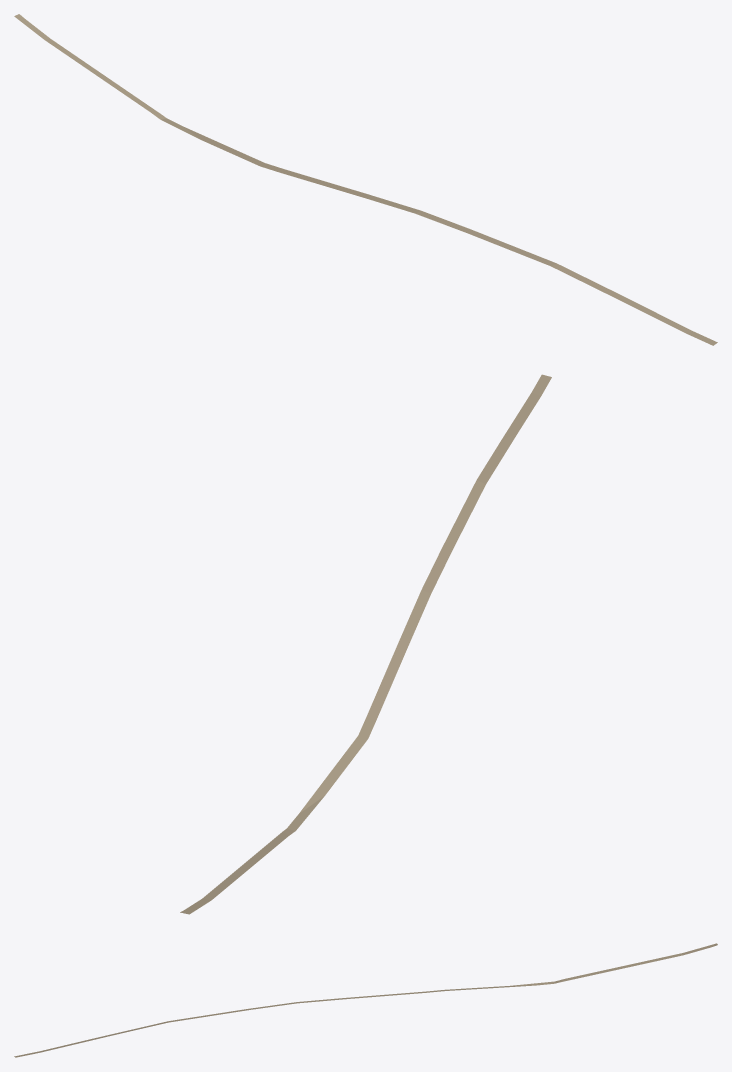
The model's file is farm_13_24_track.glb.
The picture shows the model from 3 angles, top to bottom: view 1: azimuth 30°, elevation 25°; view 2: azimuth 150°, elevation 25°; view 3: azimuth 270°, elevation 25°; orthographic projection. The views are drawn at different scales.
Parts seen in each view (by area): view 1: geometry_0; view 2: geometry_0; view 3: geometry_0.
Part boxes in pixels (bbox=[...]): geometry_0: bbox=[14, 14, 717, 345]; geometry_0: bbox=[180, 374, 551, 914]; geometry_0: bbox=[14, 943, 717, 1057].
Size of the model in its own units: 125 by 20.88 by 438.
